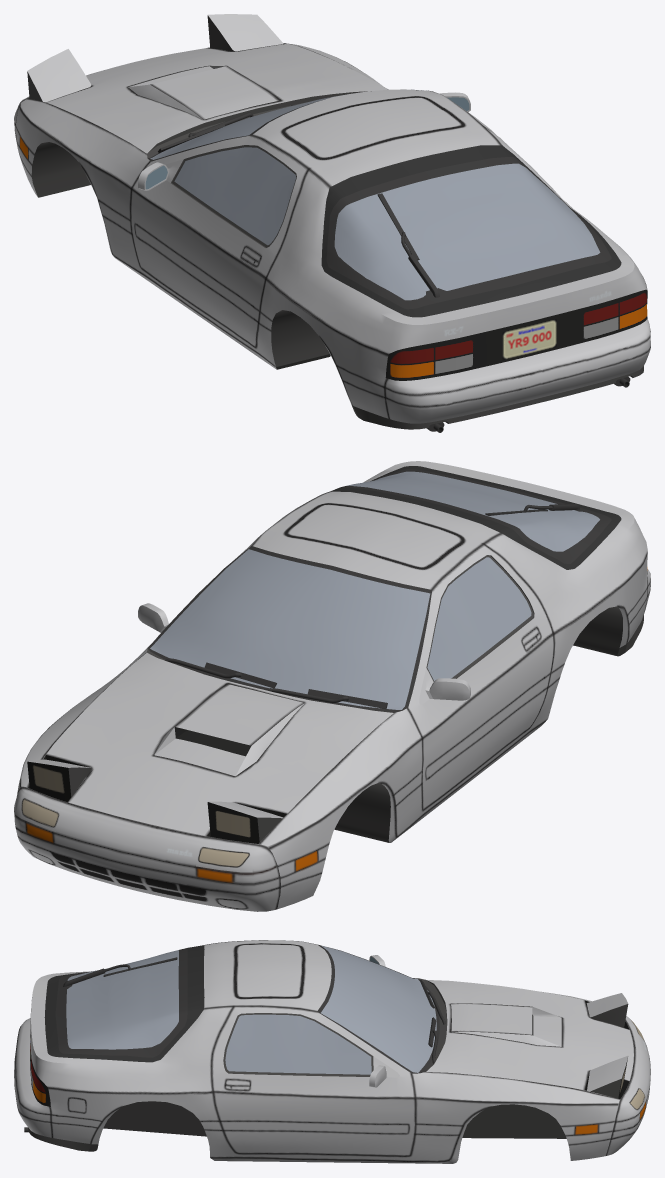
The model's file is rx7fc_body.fbx.
The picture shows the model from 3 angles, top to bottom: view 1: azimuth 30°, elevation 25°; view 2: azimuth 150°, elevation 25°; view 3: azimuth 270°, elevation 25°; orthographic projection. The views are drawn at different scales.
Parts seen in each view (by area): view 1: rx7fc_body; view 2: rx7fc_body; view 3: rx7fc_body.
Part boxes in pixels (bbox=[...]): rx7fc_body: bbox=[14, 14, 650, 432]; rx7fc_body: bbox=[14, 461, 650, 911]; rx7fc_body: bbox=[14, 940, 650, 1163].
Bounding box in the file's own units: 1.97 × 1.08 × 4.29.
